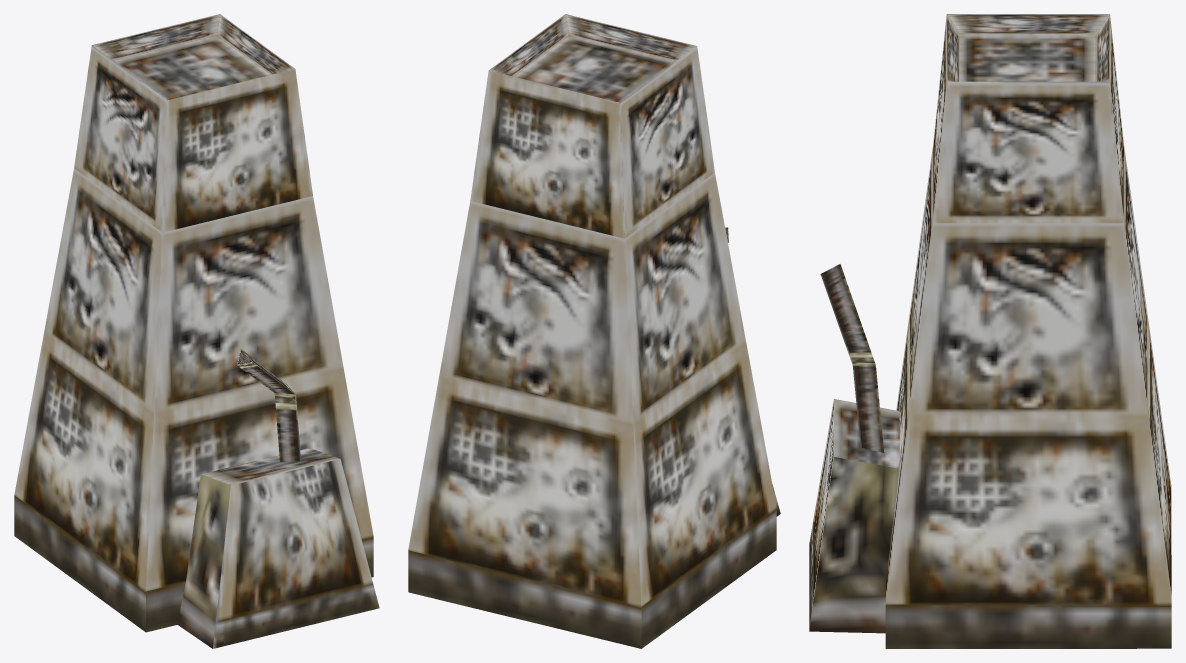
Rendered from d_mediumwall_dam.glb.
The picture shows the model from 3 angles, left to right: view 1: azimuth 30°, elevation 25°; view 2: azimuth 150°, elevation 25°; view 3: azimuth 270°, elevation 25°; orthographic projection. The views are drawn at different scales.
Visible parts, largest first — view 1: DavionMediumWall_damaged; view 2: DavionMediumWall_damaged; view 3: DavionMediumWall_damaged.
Boxes of the visible parts, left/top/right/bottom form: DavionMediumWall_damaged: left=14, top=14, right=379, bottom=648; DavionMediumWall_damaged: left=408, top=14, right=780, bottom=648; DavionMediumWall_damaged: left=809, top=14, right=1171, bottom=648.
Bounding box in the file's own units: 5.49 × 11.52 × 6.99.
1 material, 1 textured.
